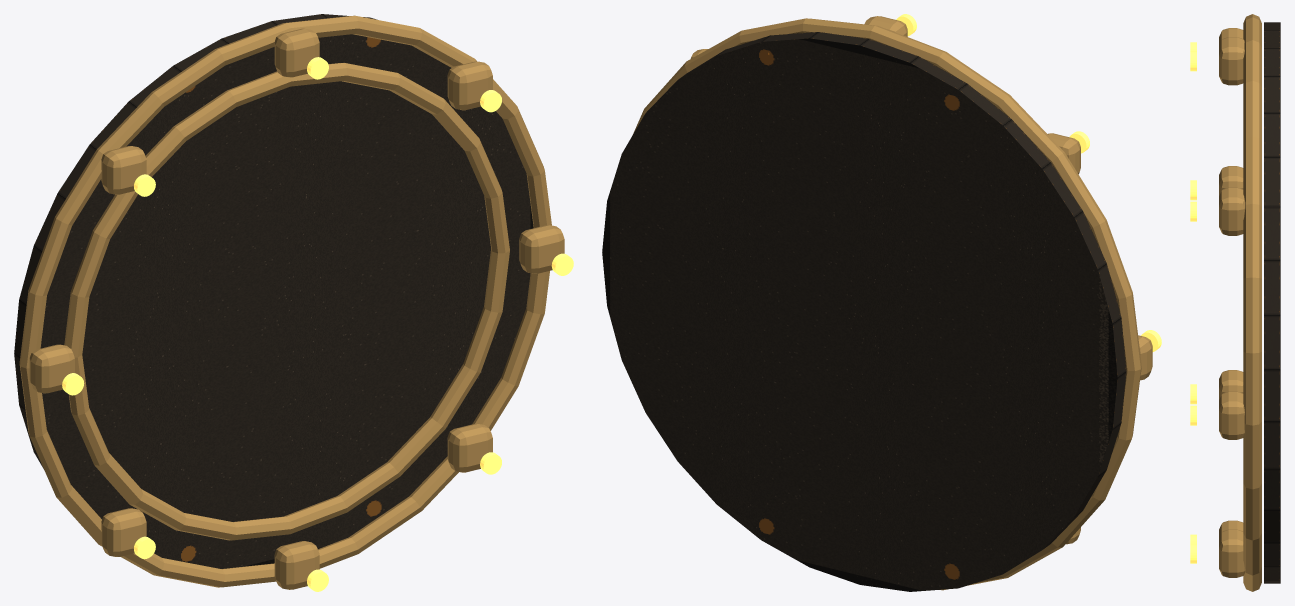
File: gate-high.glb
3 renders of one model, left to right at view 1: azimuth 30°, elevation 25°; view 2: azimuth 150°, elevation 25°; view 3: azimuth 270°, elevation 25°, orthographic. The views are drawn at different scales.
Visible parts, largest first — view 1: gate-root.002 / Riveted iron.010, gate-root.002 / Machined brass.010, gate-root.002 / Amber lamps.010; view 2: gate-root.002 / Riveted iron.010, gate-root.002 / Machined brass.010, gate-root.002 / Amber lamps.010; view 3: gate-root.002 / Machined brass.010, gate-root.002 / Riveted iron.010, gate-root.002 / Amber lamps.010.
Part boxes in pixels (x1,y1,x2,y2): gate-root.002 / Riveted iron.010: (14, 14, 533, 568); gate-root.002 / Machined brass.010: (19, 15, 564, 589); gate-root.002 / Amber lamps.010: (62, 57, 573, 591); gate-root.002 / Riveted iron.010: (602, 32, 1126, 591); gate-root.002 / Machined brass.010: (633, 16, 1152, 590); gate-root.002 / Amber lamps.010: (896, 14, 1161, 351); gate-root.002 / Machined brass.010: (1219, 14, 1261, 591); gate-root.002 / Riveted iron.010: (1264, 22, 1280, 583); gate-root.002 / Amber lamps.010: (1190, 42, 1196, 563).
Bounding box in the file's own units: 2.07 × 2.07 × 0.322.
Materials: 3 (1 with a texture image).
